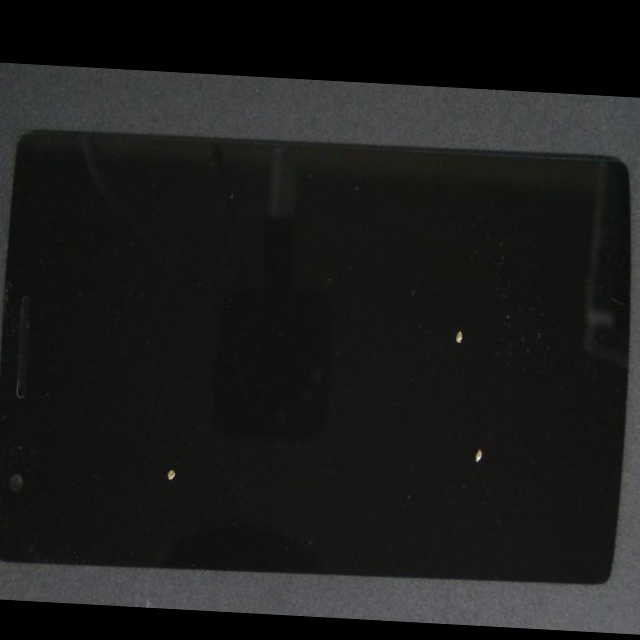stain: (228, 278, 640, 635), (230, 237, 640, 470), (81, 294, 301, 615)
